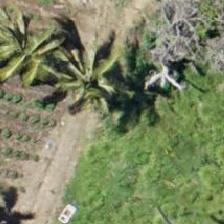coconut_tree: (53, 33, 143, 123), (0, 15, 85, 105), (120, 172, 210, 223)
